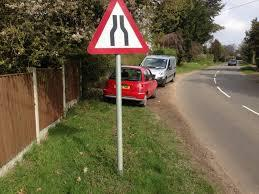narrow_road: (84, 0, 149, 54)
